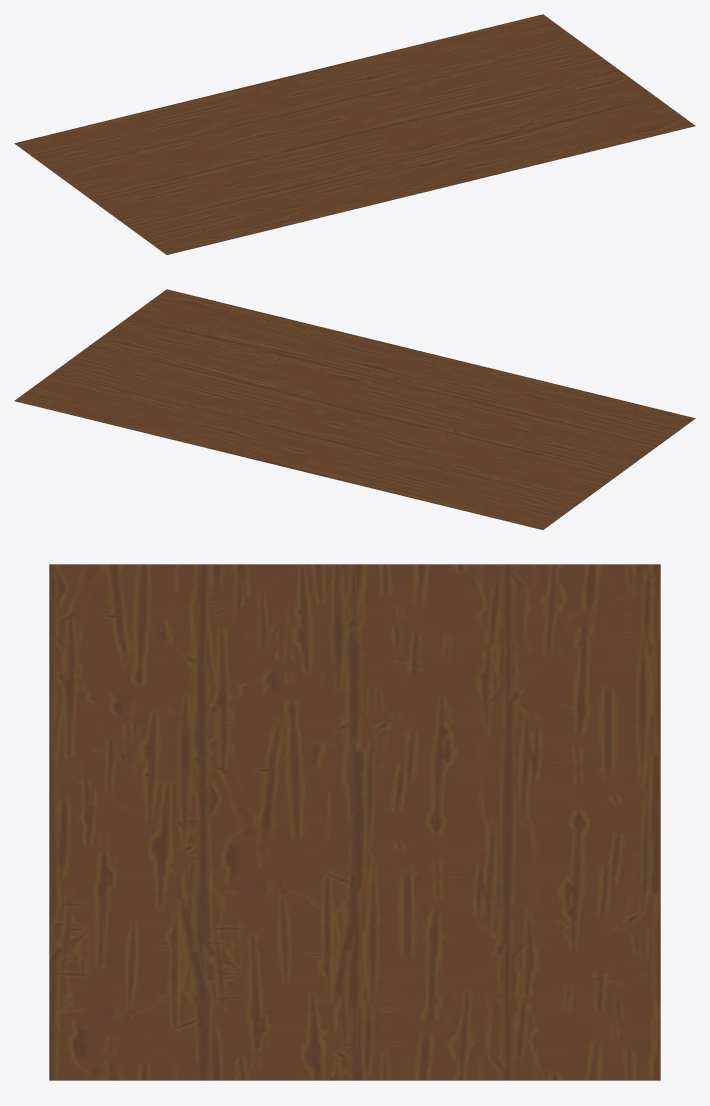
File: floor-wooddark-half3.glb
3 renders of one model, top to bottom at view 1: azimuth 30°, elevation 25°; view 2: azimuth 150°, elevation 25°; view 3: azimuth 270°, elevation 25°, orthographic. The views are drawn at different scales.
Parts seen in each view (by area): view 1: Floor_WoodDark_Half3; view 2: Floor_WoodDark_Half3; view 3: Floor_WoodDark_Half3.
Part boxes in pixels (x1,y1,x2,y2): Floor_WoodDark_Half3: (14, 14, 695, 254); Floor_WoodDark_Half3: (14, 289, 695, 529); Floor_WoodDark_Half3: (49, 564, 660, 1080).
Size of the model in its own units: 2 by 0.02 by 1.
Materials: 1 (1 with a texture image).
